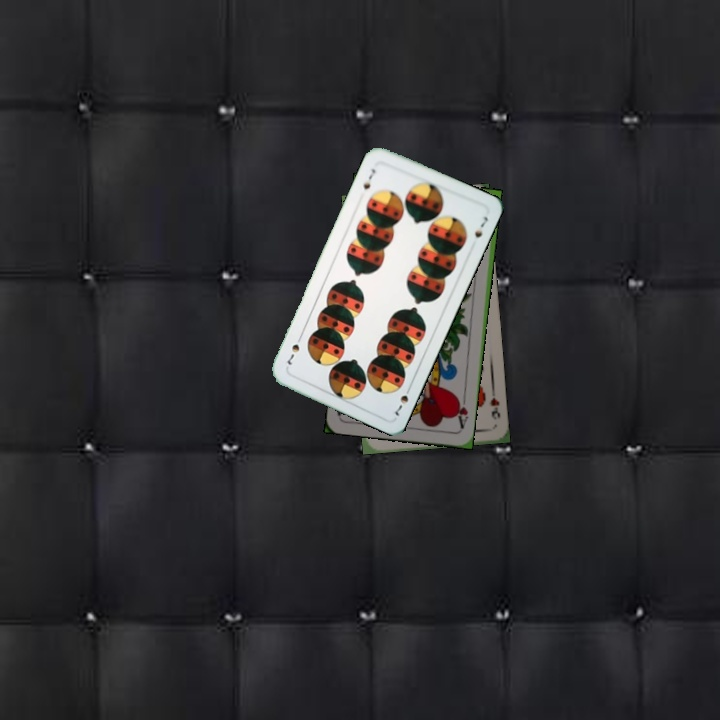H9: (486, 387, 502, 422)
HA: (451, 393, 471, 431)
S7: (391, 381, 414, 419), (359, 164, 378, 192)
